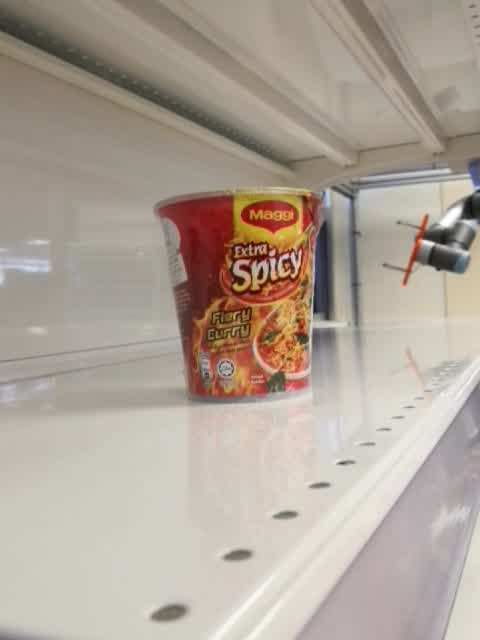maggi: (153, 187, 324, 405)
